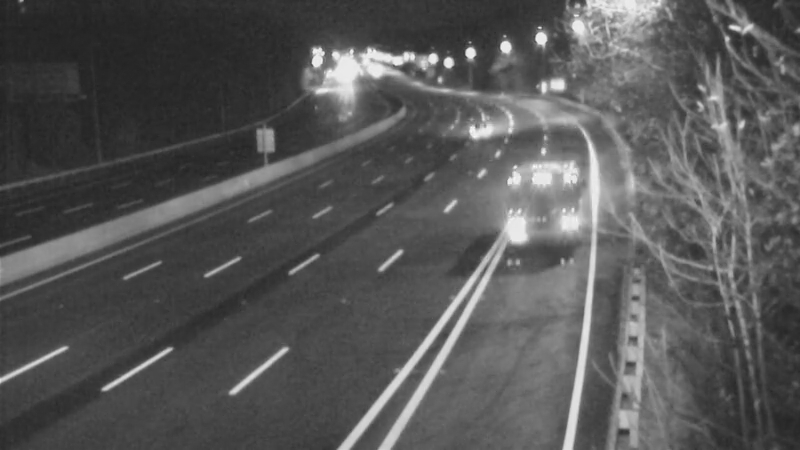vehicle: (502, 159, 582, 239), (455, 107, 505, 157)
